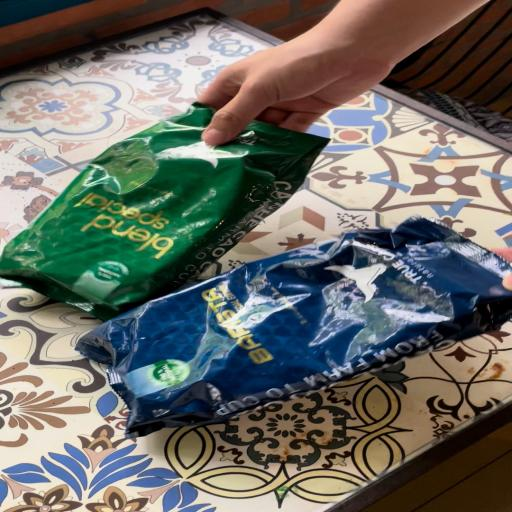cafe_hat: (77, 217, 512, 437)
cafe_xay: (0, 103, 327, 319)
